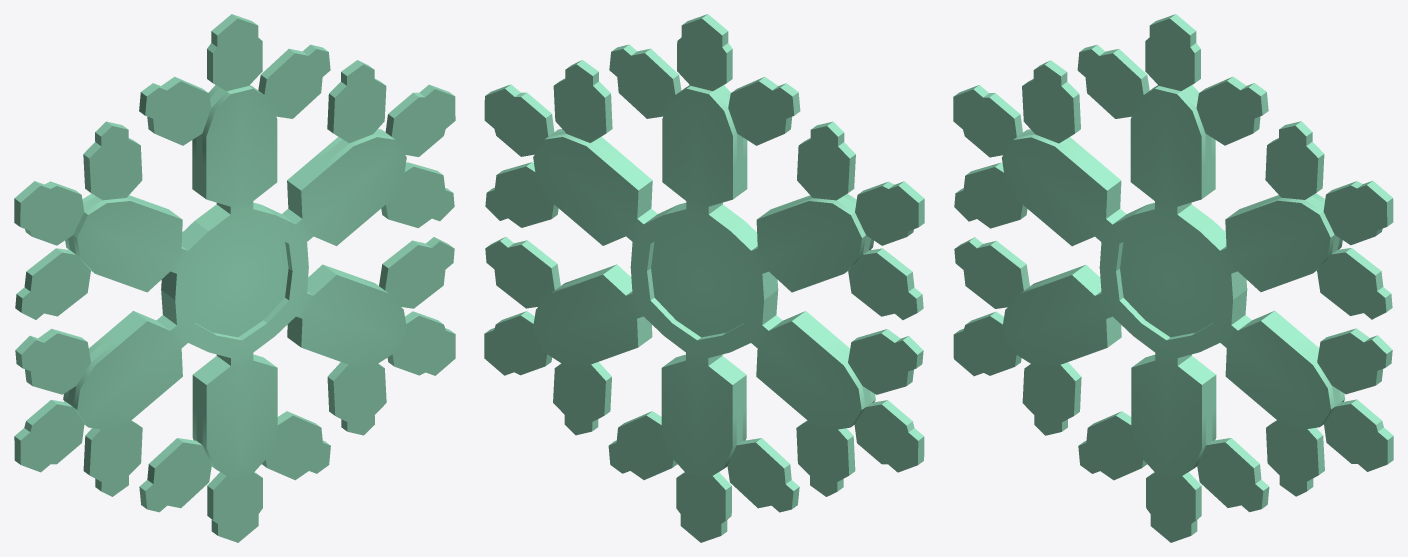
File: Snowflake.006.glb
3 views of the same model, side by side, from view 1: azimuth 30°, elevation 25°; view 2: azimuth 150°, elevation 25°; view 3: azimuth 330°, elevation 25° (orthographic).
Visible parts, largest first — view 1: Snowflake.006; view 2: Snowflake.006; view 3: Snowflake.006.
Boxes of the visible parts, box(x1,y1,x2,y2) form: Snowflake.006: box(14, 14, 455, 542); Snowflake.006: box(484, 14, 924, 542); Snowflake.006: box(953, 14, 1393, 542).
Bounding box in the file's own units: 1025 × 1181 × 59.3.
